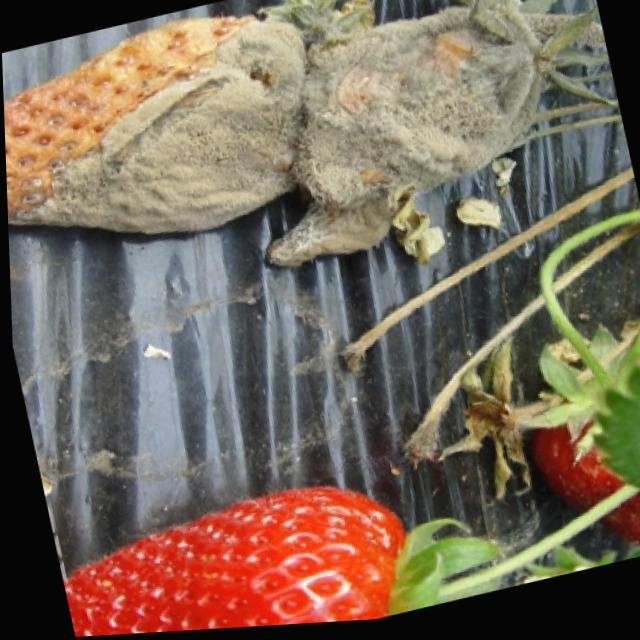Gray Mold: (3, 0, 369, 236), (286, 0, 551, 220), (259, 195, 401, 278)
